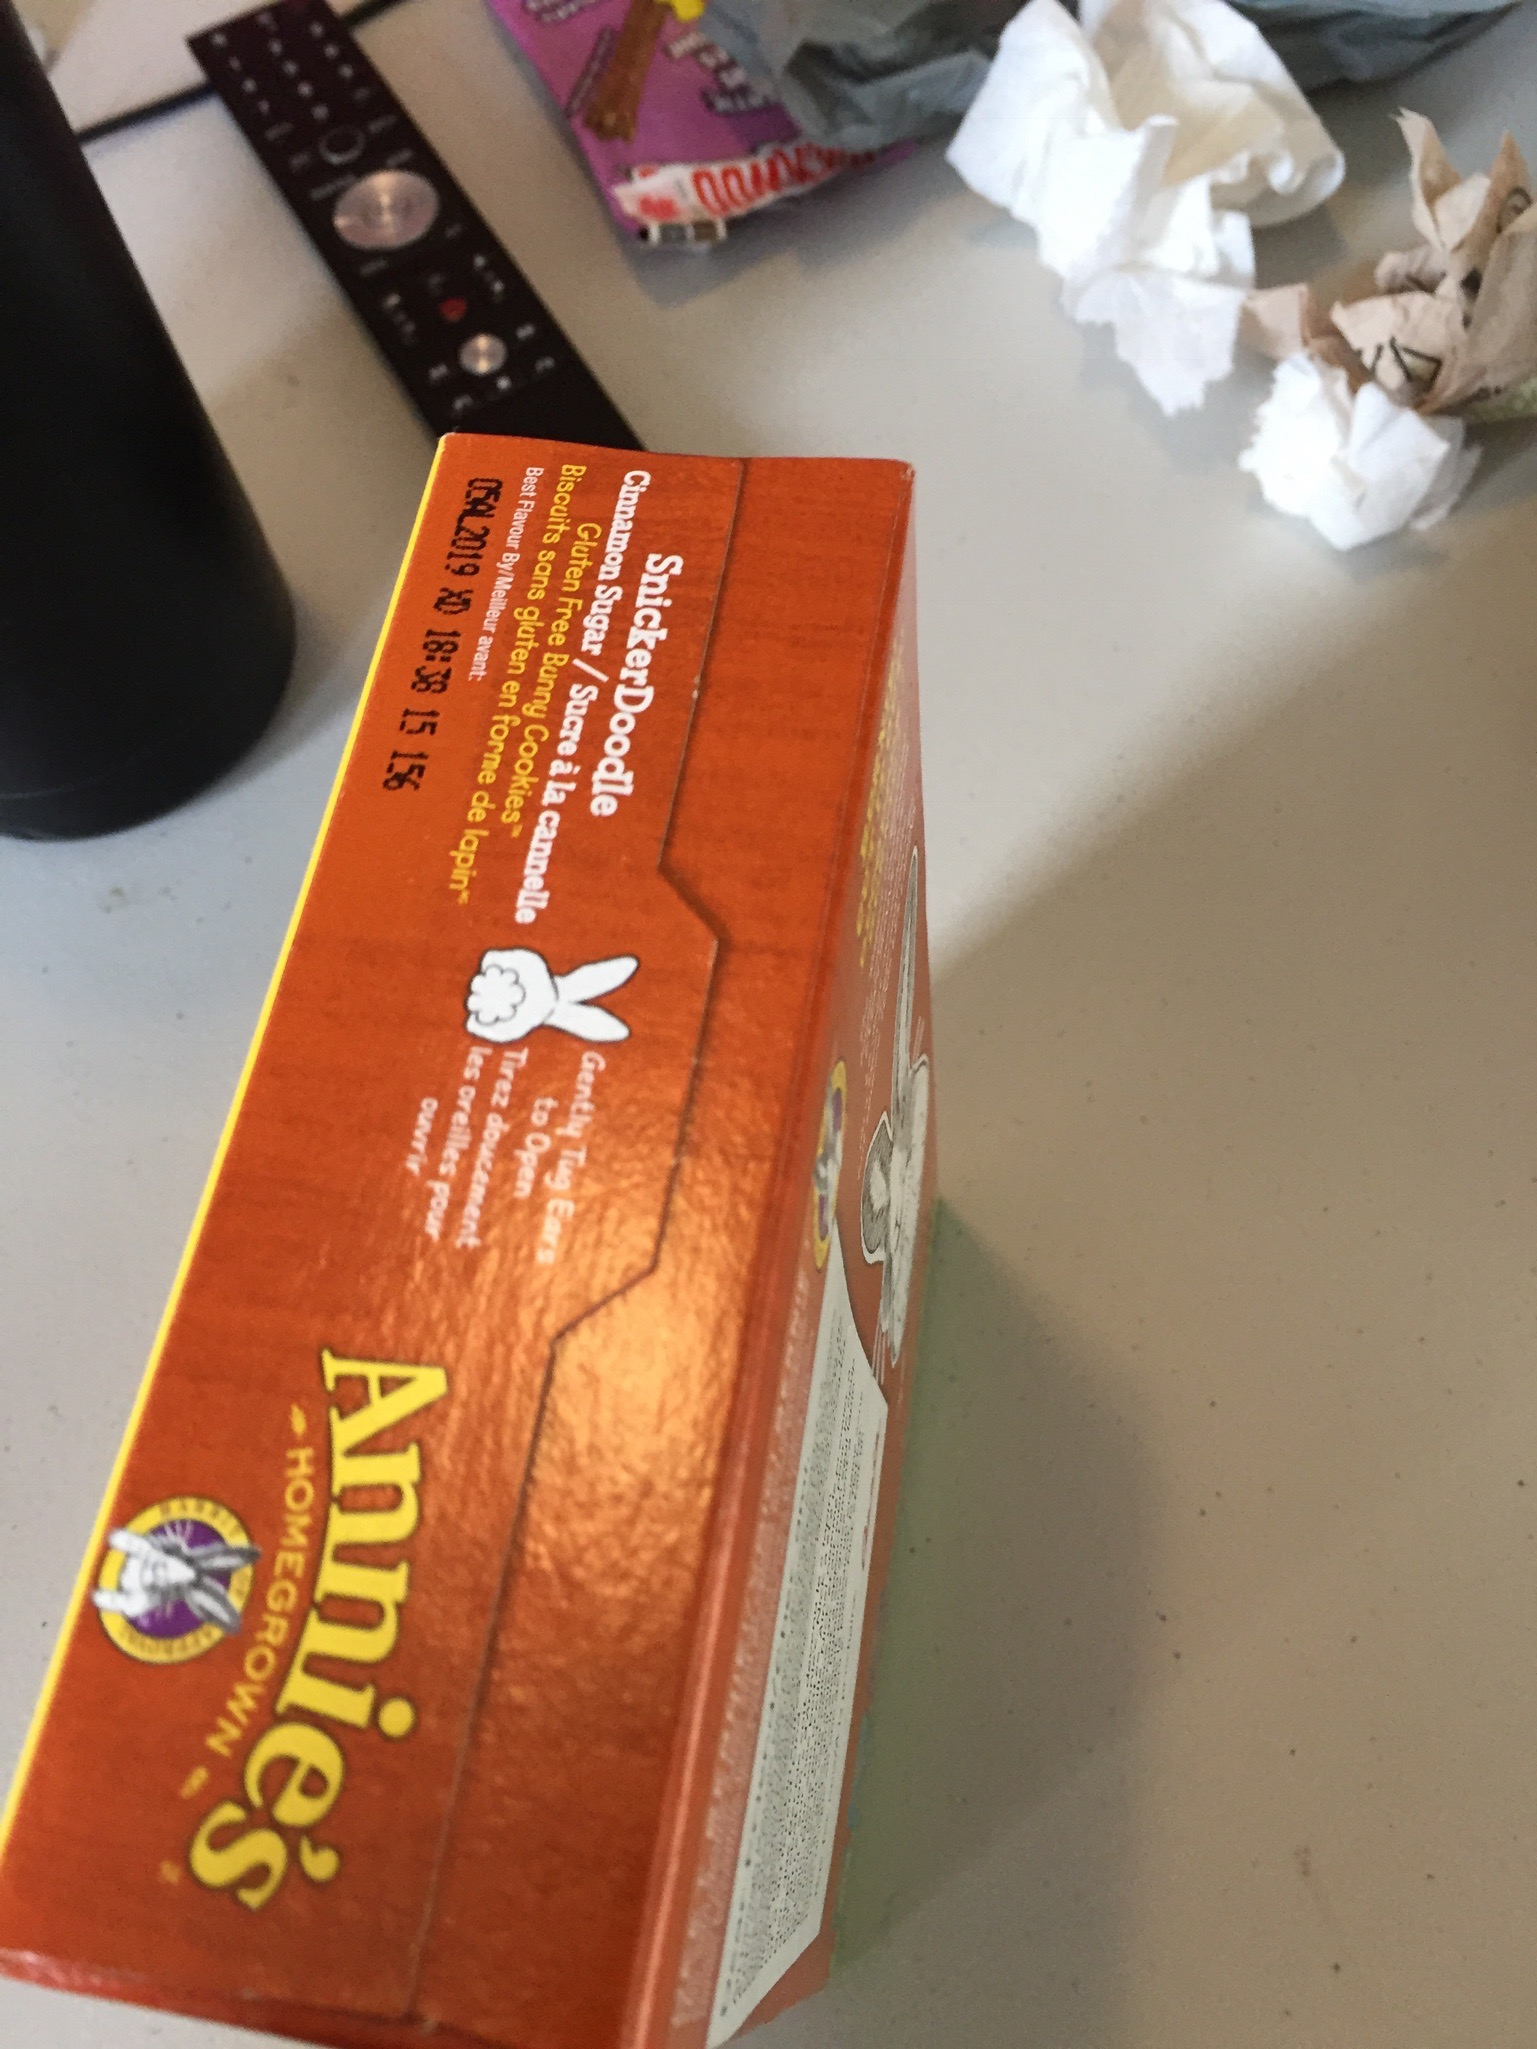annies_snickerdoodles_cinnamon_sugar: (441, 441, 807, 1968)
